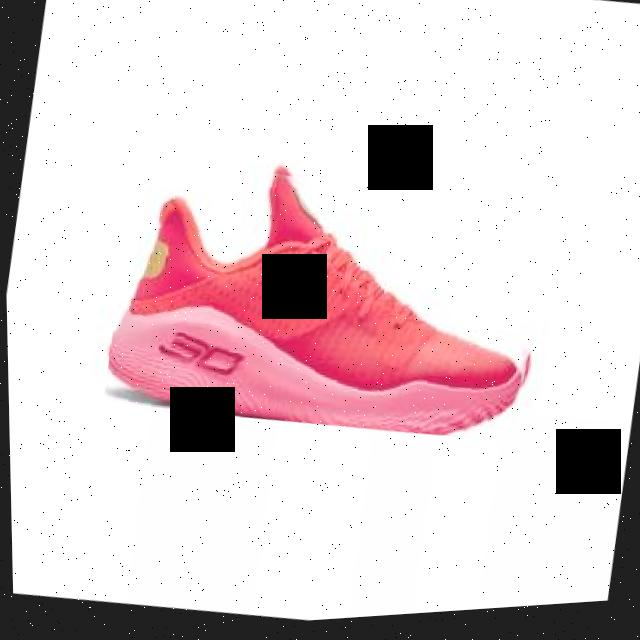shoe: (97, 135, 558, 472)
